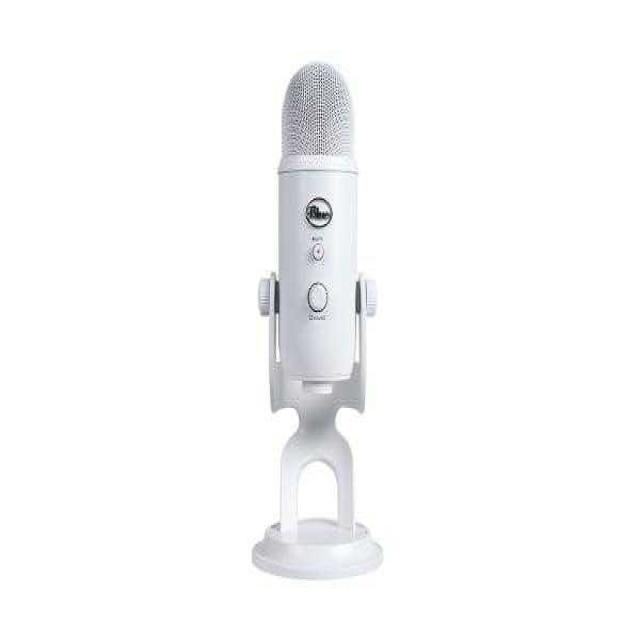microphone: (277, 62, 361, 386)
